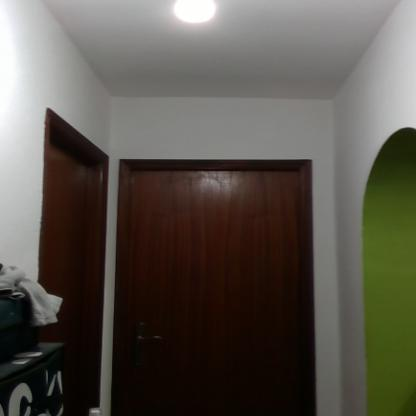door: (121, 166, 310, 416), (48, 141, 97, 415)
lever: (134, 333, 166, 344)
